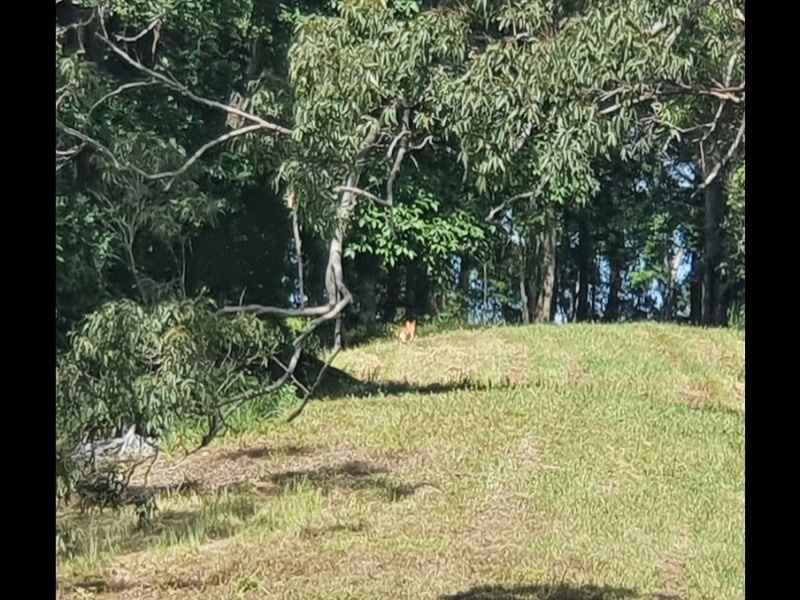dog: (397, 320, 418, 350)
